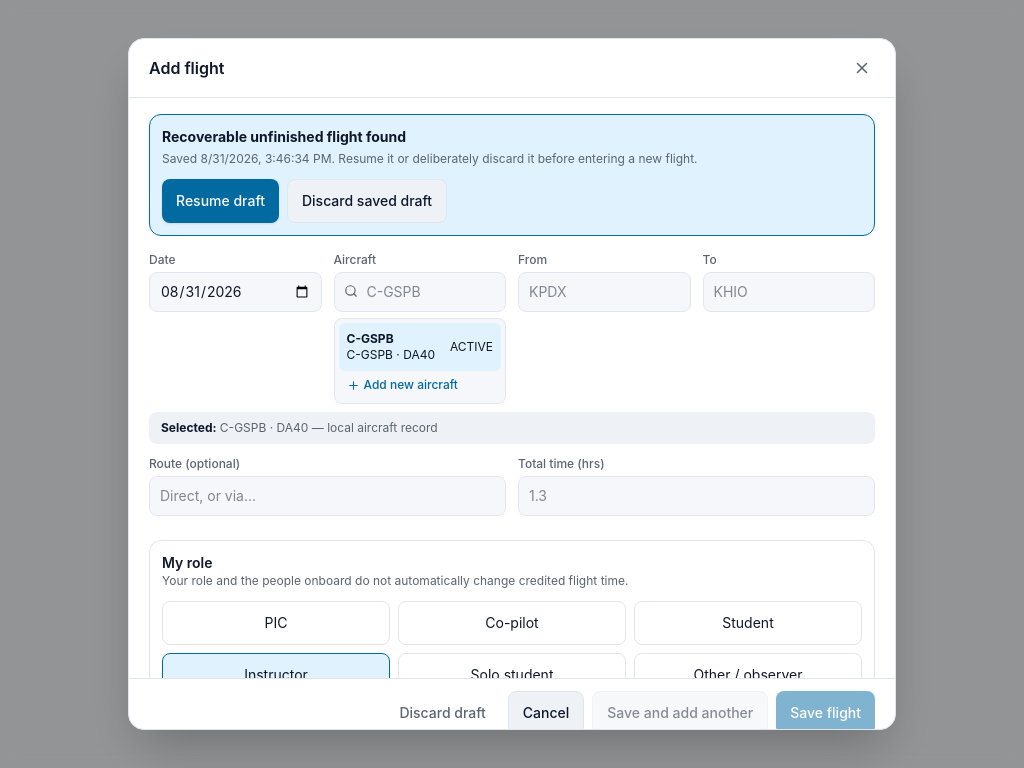
FlightFormModal automatic and manual times › offers an explicit resume or discard choice for a saved draft
Expected: the text "Recoverable unfinished flight found" is shown, 162,128 -> 406,145
Click the button "Resume draft": (220, 201) 162,179 -> 279,223
(page scrolled)
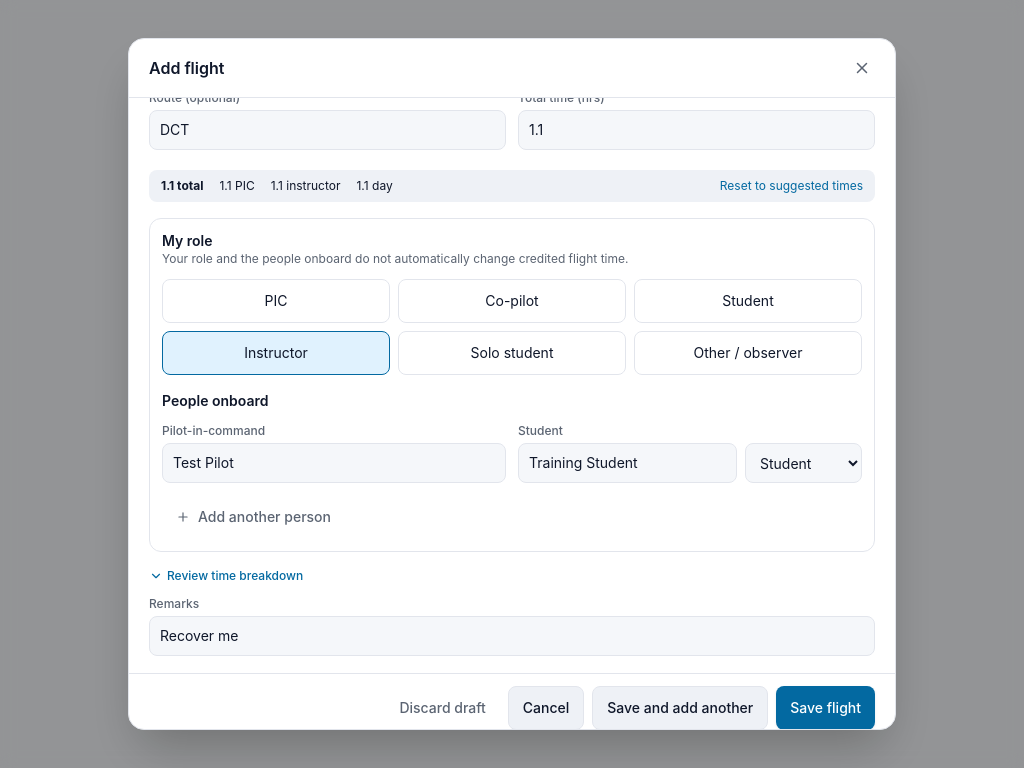
Result: the field labelled "Remarks" holds "Recover me" at 149,616 -> 875,656
